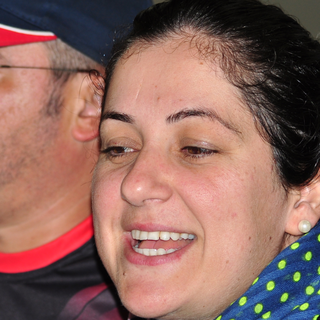eye: (175, 140, 224, 163), (98, 139, 146, 161)
